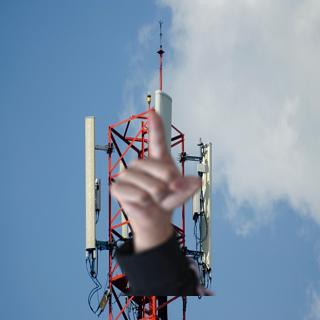IRRITATED: (107, 109, 204, 225)
